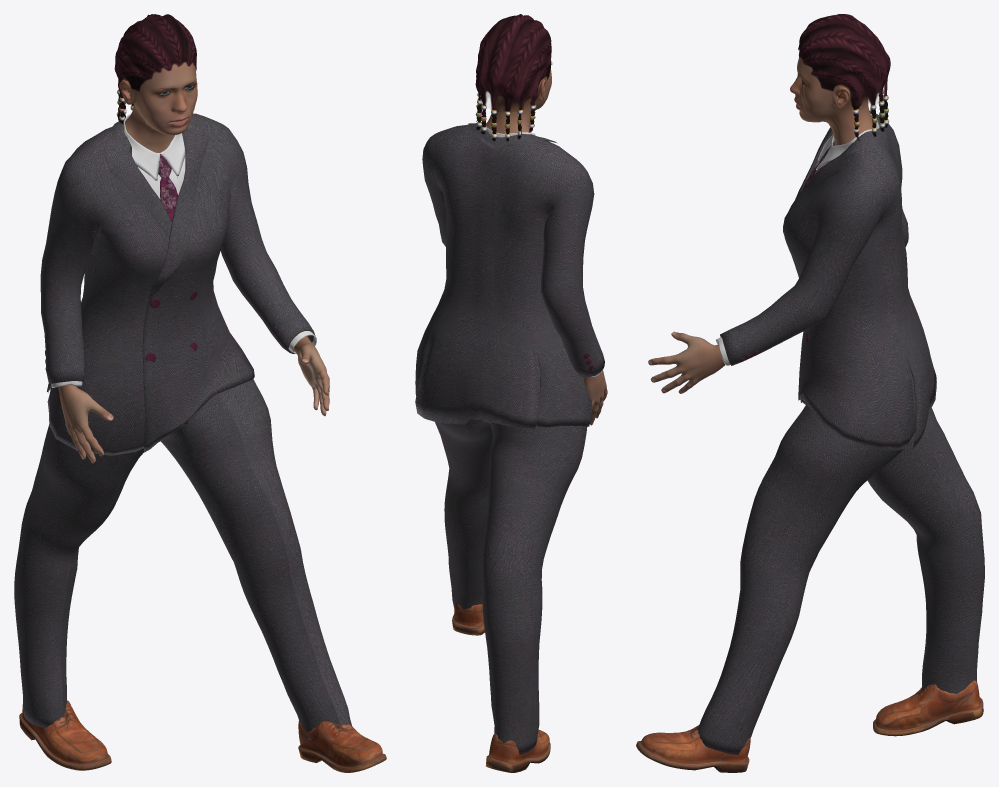
File: donna-02.glb
The picture shows the model from 3 angles, left to right: view 1: azimuth 30°, elevation 25°; view 2: azimuth 150°, elevation 25°; view 3: azimuth 270°, elevation 25°; orthographic projection. The views are drawn at different scales.
Parts seen in each view (by area): view 1: Human.toigo_female_double-breasted_suit, Human, Human.shoes01, Human.elvs_braided_rows; view 2: Human.toigo_female_double-breasted_suit, Human.elvs_braided_rows, Human.shoes01, Human; view 3: Human.toigo_female_double-breasted_suit, Human.shoes01, Human.elvs_braided_rows, Human.
Part boxes in pixels (bbox=[...]): Human.toigo_female_double-breasted_suit: bbox=[14, 113, 351, 740]; Human: bbox=[58, 62, 329, 463]; Human.shoes01: bbox=[19, 700, 386, 772]; Human.elvs_braided_rows: bbox=[114, 14, 196, 124]; Human.toigo_female_double-breasted_suit: bbox=[415, 123, 604, 754]; Human.elvs_braided_rows: bbox=[475, 14, 551, 141]; Human.shoes01: bbox=[452, 602, 550, 772]; Human: bbox=[486, 68, 607, 425]; Human.toigo_female_double-breasted_suit: bbox=[697, 110, 984, 754]; Human.shoes01: bbox=[636, 680, 983, 772]; Human.elvs_braided_rows: bbox=[798, 14, 890, 141]; Human: bbox=[648, 57, 876, 393].
Size of the model in its own units: 0.5586 by 1.72 by 0.7413.
12 materials, 12 textured.
